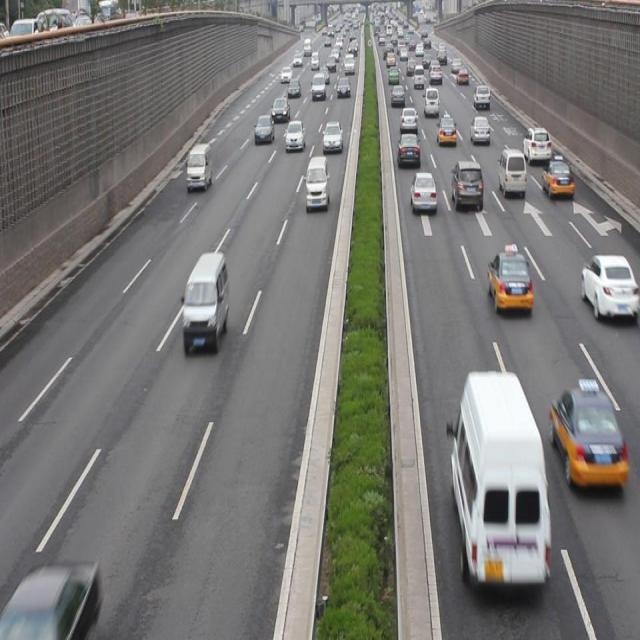car: (548, 376, 627, 486), (0, 556, 104, 629), (577, 252, 640, 322), (485, 246, 533, 316), (451, 158, 481, 208), (541, 156, 573, 200), (408, 167, 435, 209), (520, 129, 550, 164), (396, 133, 418, 168), (283, 117, 304, 153), (399, 105, 418, 138), (435, 118, 456, 146), (254, 114, 274, 142), (322, 123, 341, 150), (470, 117, 488, 144)
truck: (448, 367, 546, 594), (181, 251, 227, 349), (185, 140, 212, 190), (496, 149, 524, 192), (307, 156, 329, 210)
